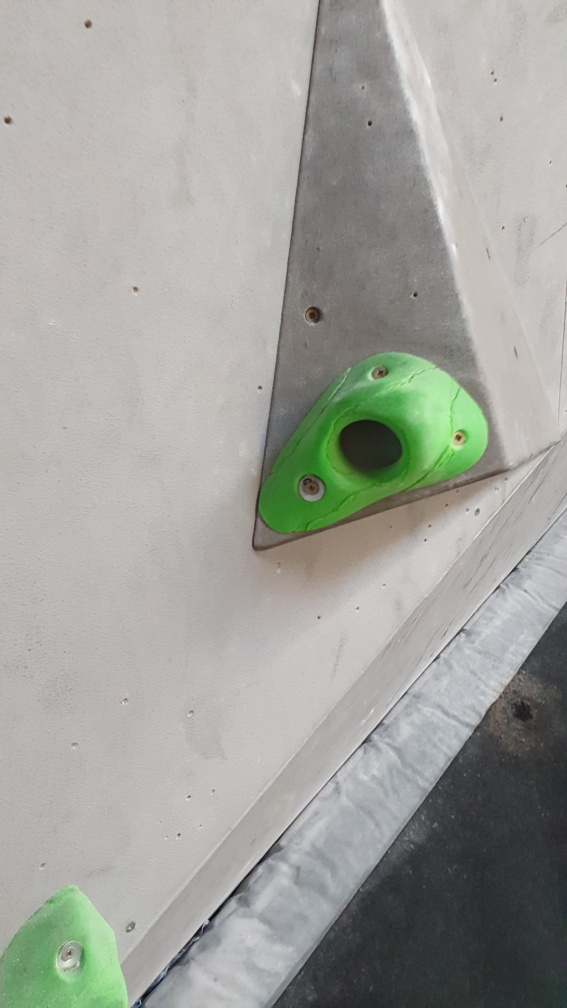Pocket: (257, 350, 491, 538)
